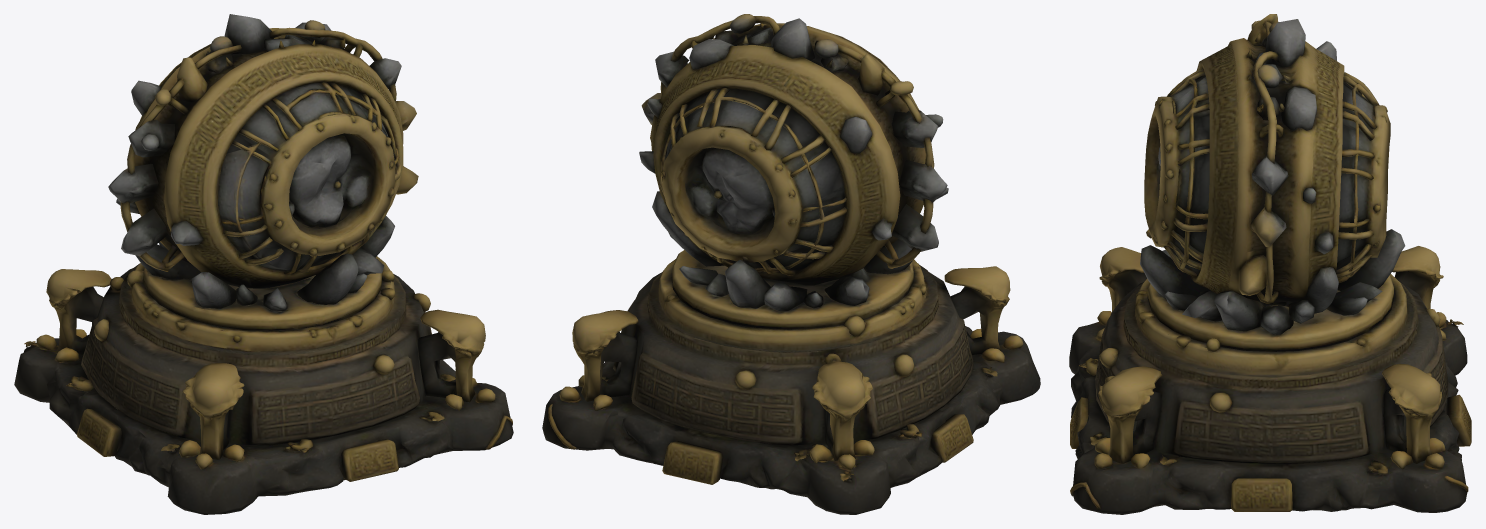
File: ch10_heart_vault_core_LOD0.glb
3 views of the same model, side by side, from view 1: azimuth 30°, elevation 25°; view 2: azimuth 150°, elevation 25°; view 3: azimuth 270°, elevation 25° (orthographic). The views are drawn at different scales.
Parts seen in each view (by area): view 1: tripo_node_1f63250c-70a3-4314-afd8-5a8f577c92ea; view 2: tripo_node_1f63250c-70a3-4314-afd8-5a8f577c92ea; view 3: tripo_node_1f63250c-70a3-4314-afd8-5a8f577c92ea.
Boxes of the visible parts, x1=… form: tripo_node_1f63250c-70a3-4314-afd8-5a8f577c92ea: x1=14, y1=14, x2=513, y2=514; tripo_node_1f63250c-70a3-4314-afd8-5a8f577c92ea: x1=542, y1=14, x2=1040, y2=514; tripo_node_1f63250c-70a3-4314-afd8-5a8f577c92ea: x1=1069, y1=14, x2=1471, y2=514.
Size of the model in its own units: 0.8965 by 0.998 by 0.9004.
Materials: 1 (1 with a texture image).
